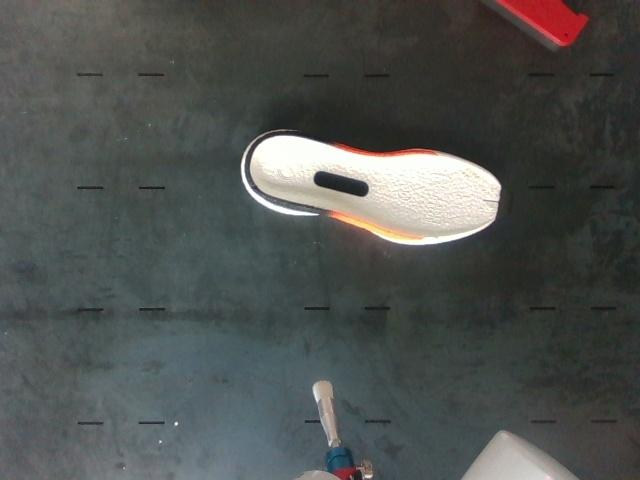shoes: (250, 135, 505, 237)
